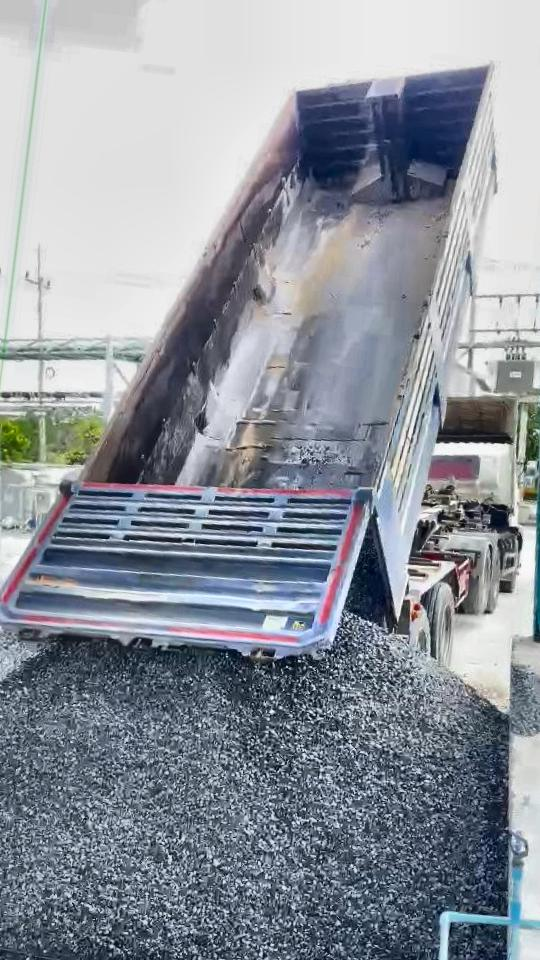gravel: (0, 615, 508, 960), (346, 524, 390, 628), (0, 631, 41, 709), (511, 666, 540, 735), (452, 927, 505, 960)
